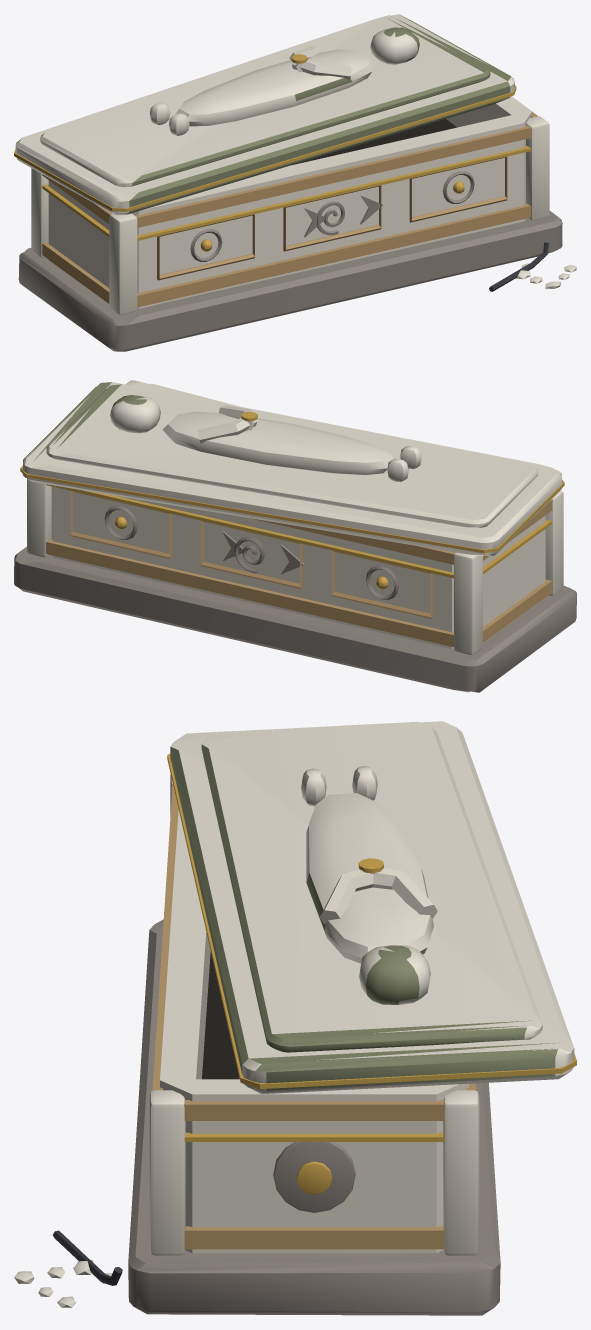
Rendered from deco_sarcophagus.fbx.
The picture shows the model from 3 angles, top to bottom: view 1: azimuth 30°, elevation 25°; view 2: azimuth 150°, elevation 25°; view 3: azimuth 270°, elevation 25°; orthographic projection. The views are drawn at different scales.
Visible parts, largest first — view 1: Sarcophagus_Coffin, Sarcophagus_Lid, Sarcophagus_Crowbar; view 2: Sarcophagus_Coffin, Sarcophagus_Lid; view 3: Sarcophagus_Lid, Sarcophagus_Coffin, Sarcophagus_Crowbar.
Part boxes in pixels (<box>): Sarcophagus_Coffin: <box>18,96,562,351</box>; Sarcophagus_Lid: <box>14,14,516,214</box>; Sarcophagus_Crowbar: <box>489,242,576,291</box>; Sarcophagus_Coffin: <box>14,380,576,692</box>; Sarcophagus_Lid: <box>20,382,564,555</box>; Sarcophagus_Lid: <box>167,721,576,1093</box>; Sarcophagus_Coffin: <box>128,774,500,1315</box>; Sarcophagus_Crowbar: <box>14,1230,122,1307</box>.
Bounding box in the file's own units: 331 × 130 × 219.
